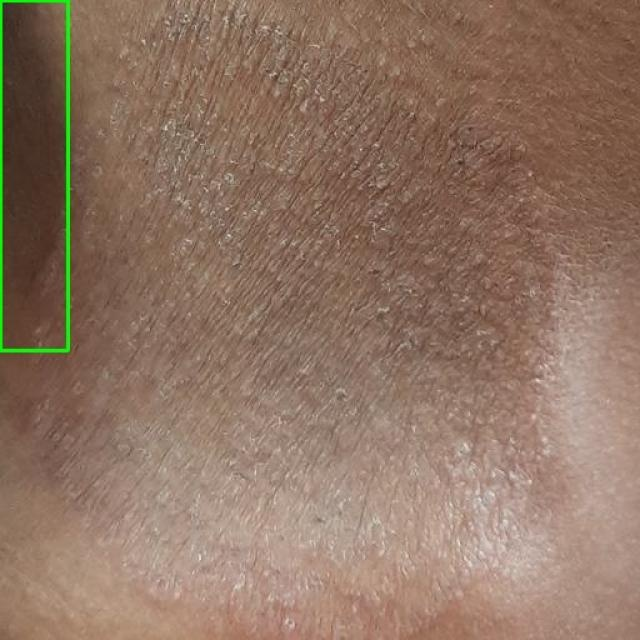Tinea Corporis: (0, 0, 68, 350)
